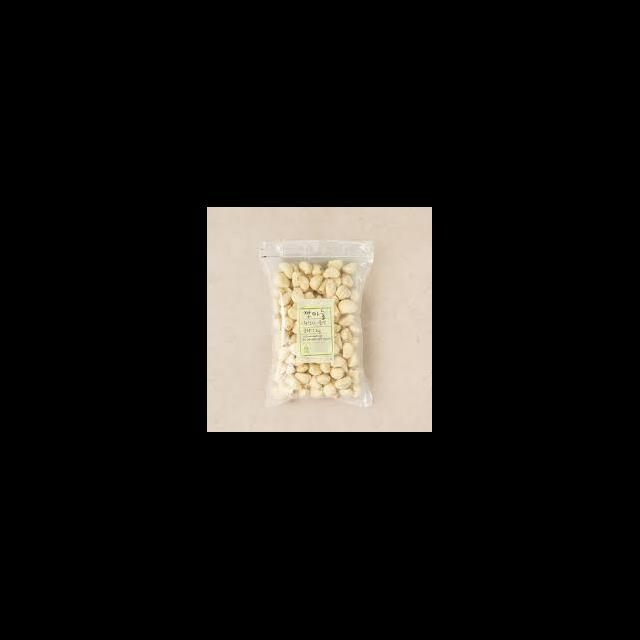garlic: (278, 260, 344, 298)
